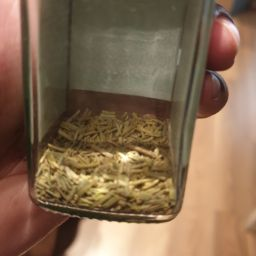Rosemary: (30, 122, 207, 256), (58, 94, 185, 256)
